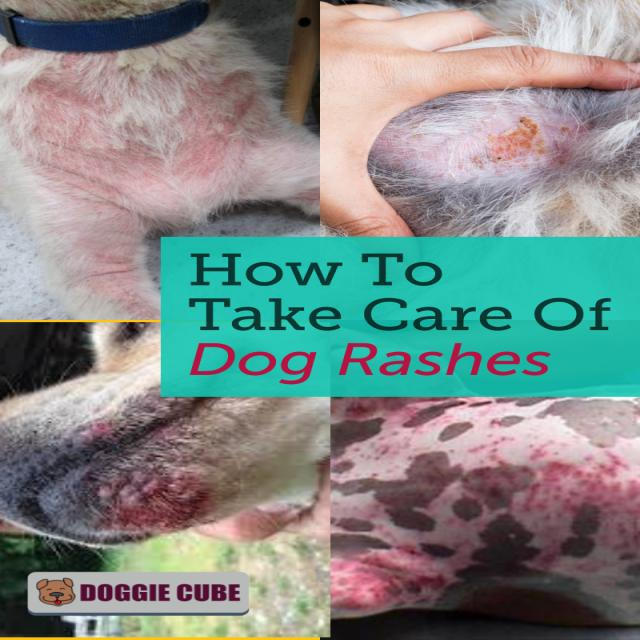allergic dermatitis: (17, 63, 239, 306), (349, 428, 640, 561), (389, 106, 591, 178), (336, 544, 432, 619), (97, 465, 216, 515), (80, 414, 132, 438)
